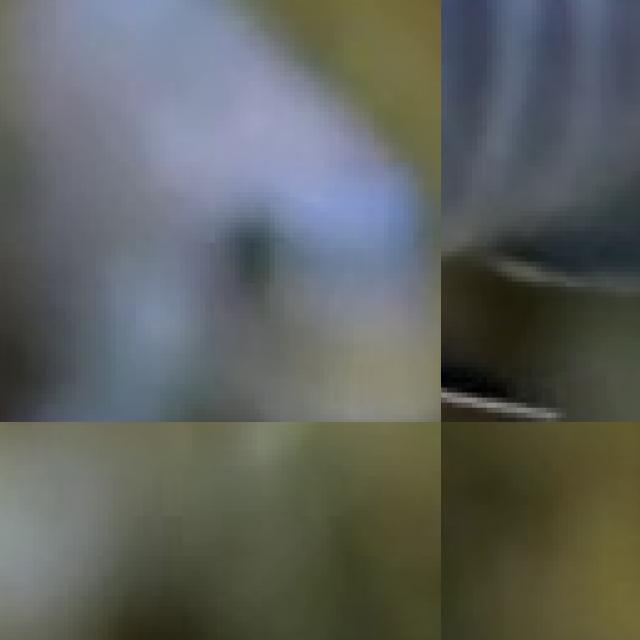fish: (0, 0, 441, 422)
